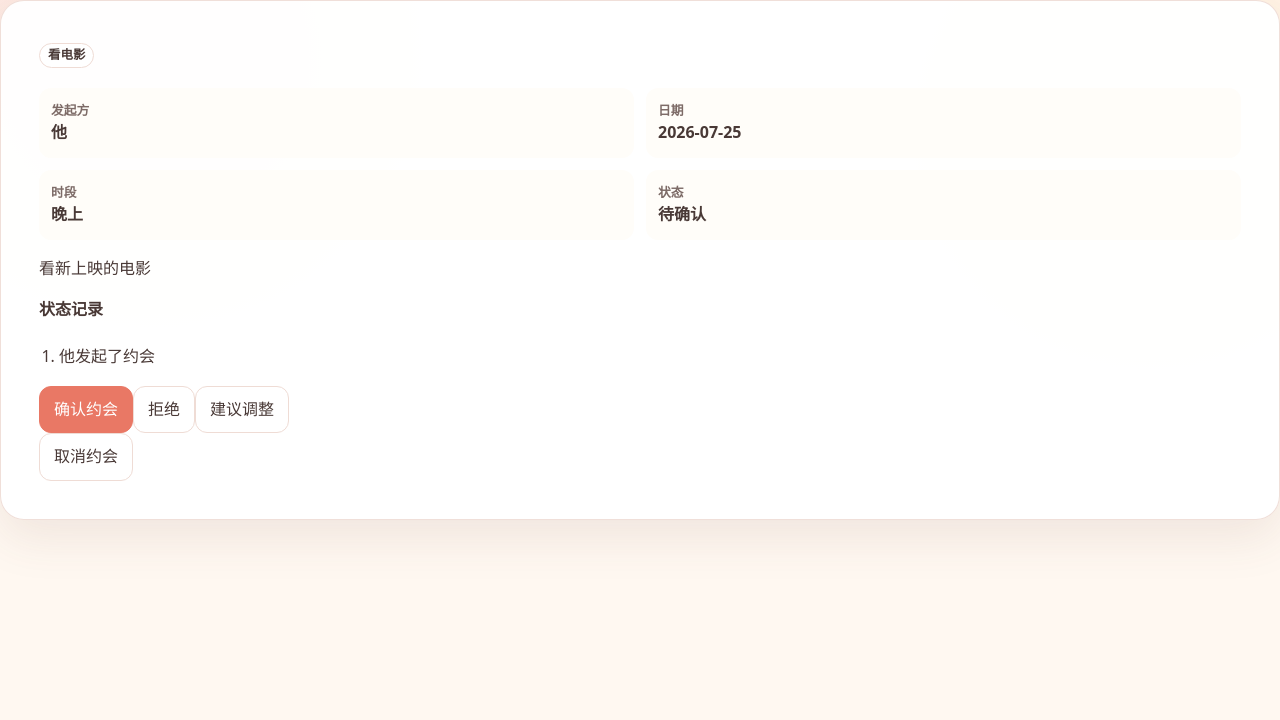
it: requires confirmation before rejecting
The width and height of the screenshot is (1280, 720).
Click the button "拒绝": x=164, y=410 [133,386,195,433]
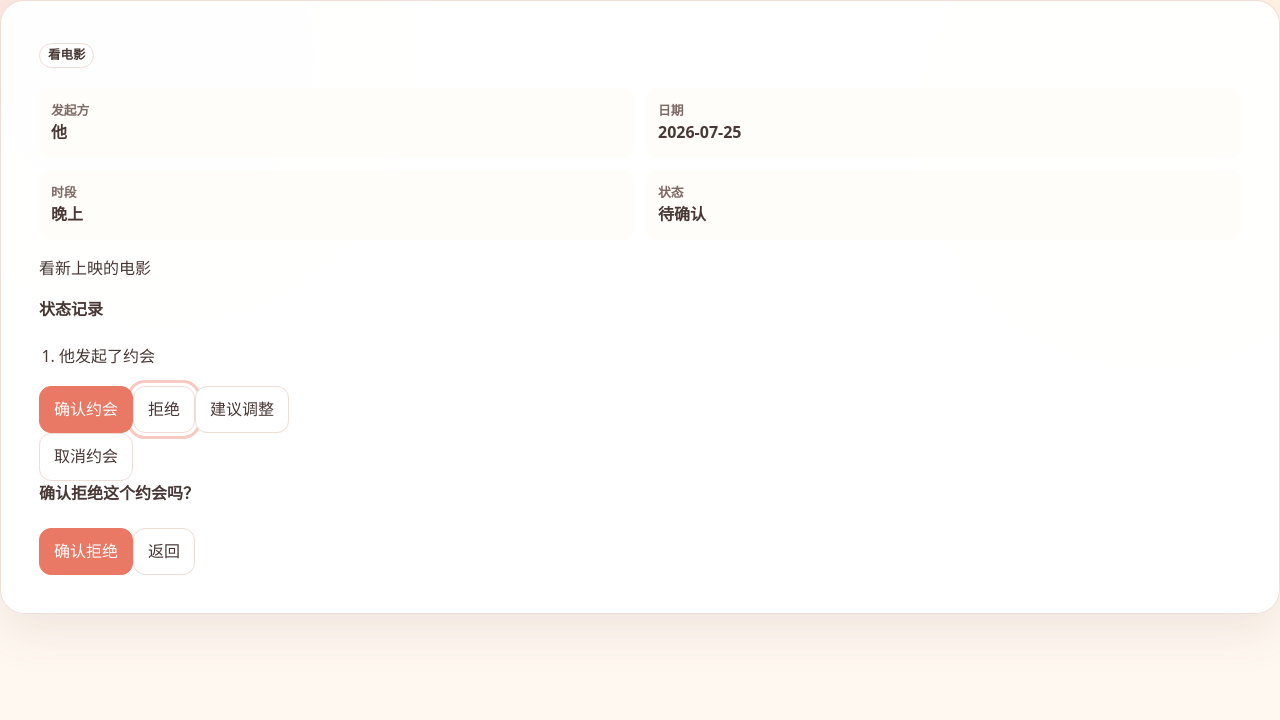
Now the dialog "确认拒绝这个约会吗？" is shown, box [39,482,199,576]
